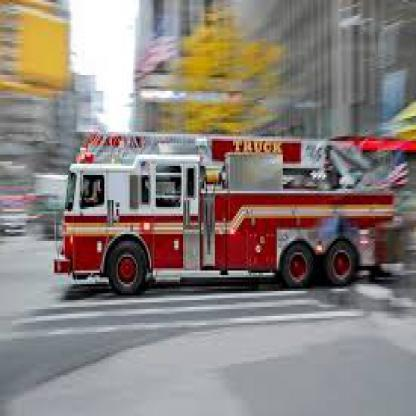fire-truck: (32, 109, 406, 328)
